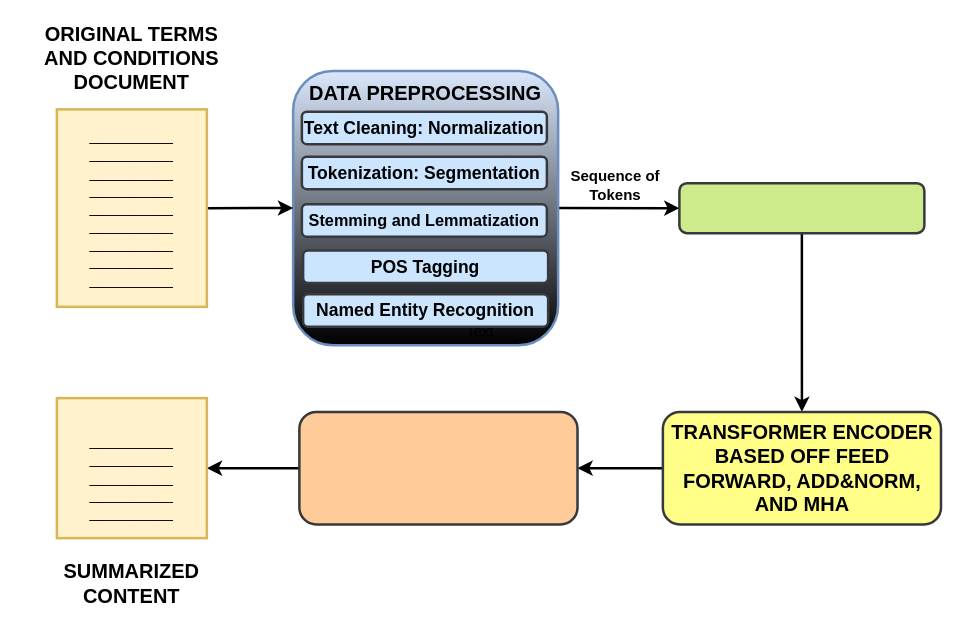
This 964x628 diagram has some shape labels left out. The shapes that lost their labels are listed below. From the top down, each one's centre as x and y in pixels, then its label:
At pixel 801 207: "WORD EMBEDDINGS".
At pixel 438 467: "TRANSFORMER DECODER BASED OFF FEED FORWARD, ADD&NORM, AND MASKED MHA".
